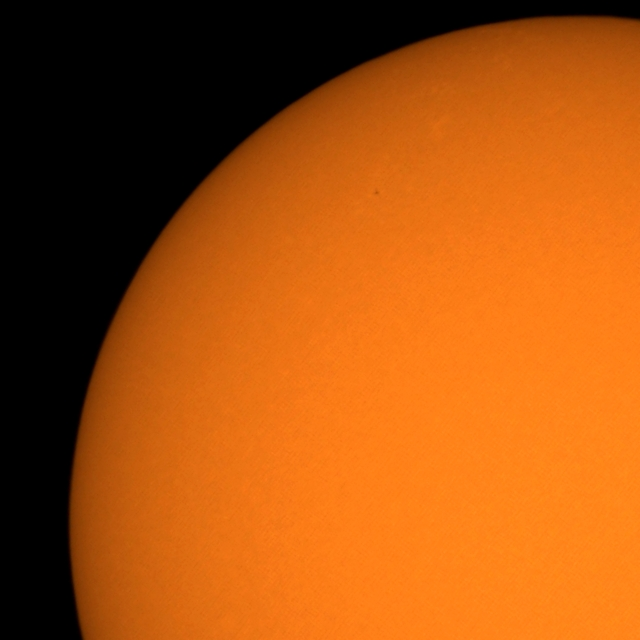sunspot: (372, 188, 380, 198)
